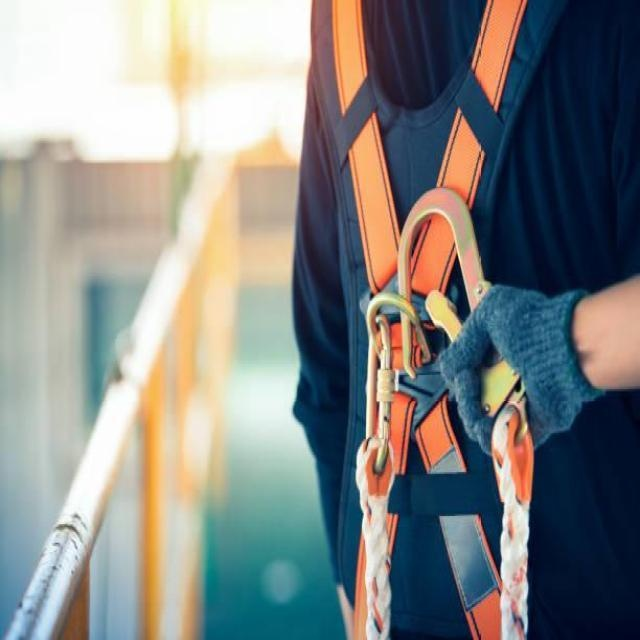Arnes_seguridad: (320, 0, 615, 640)
